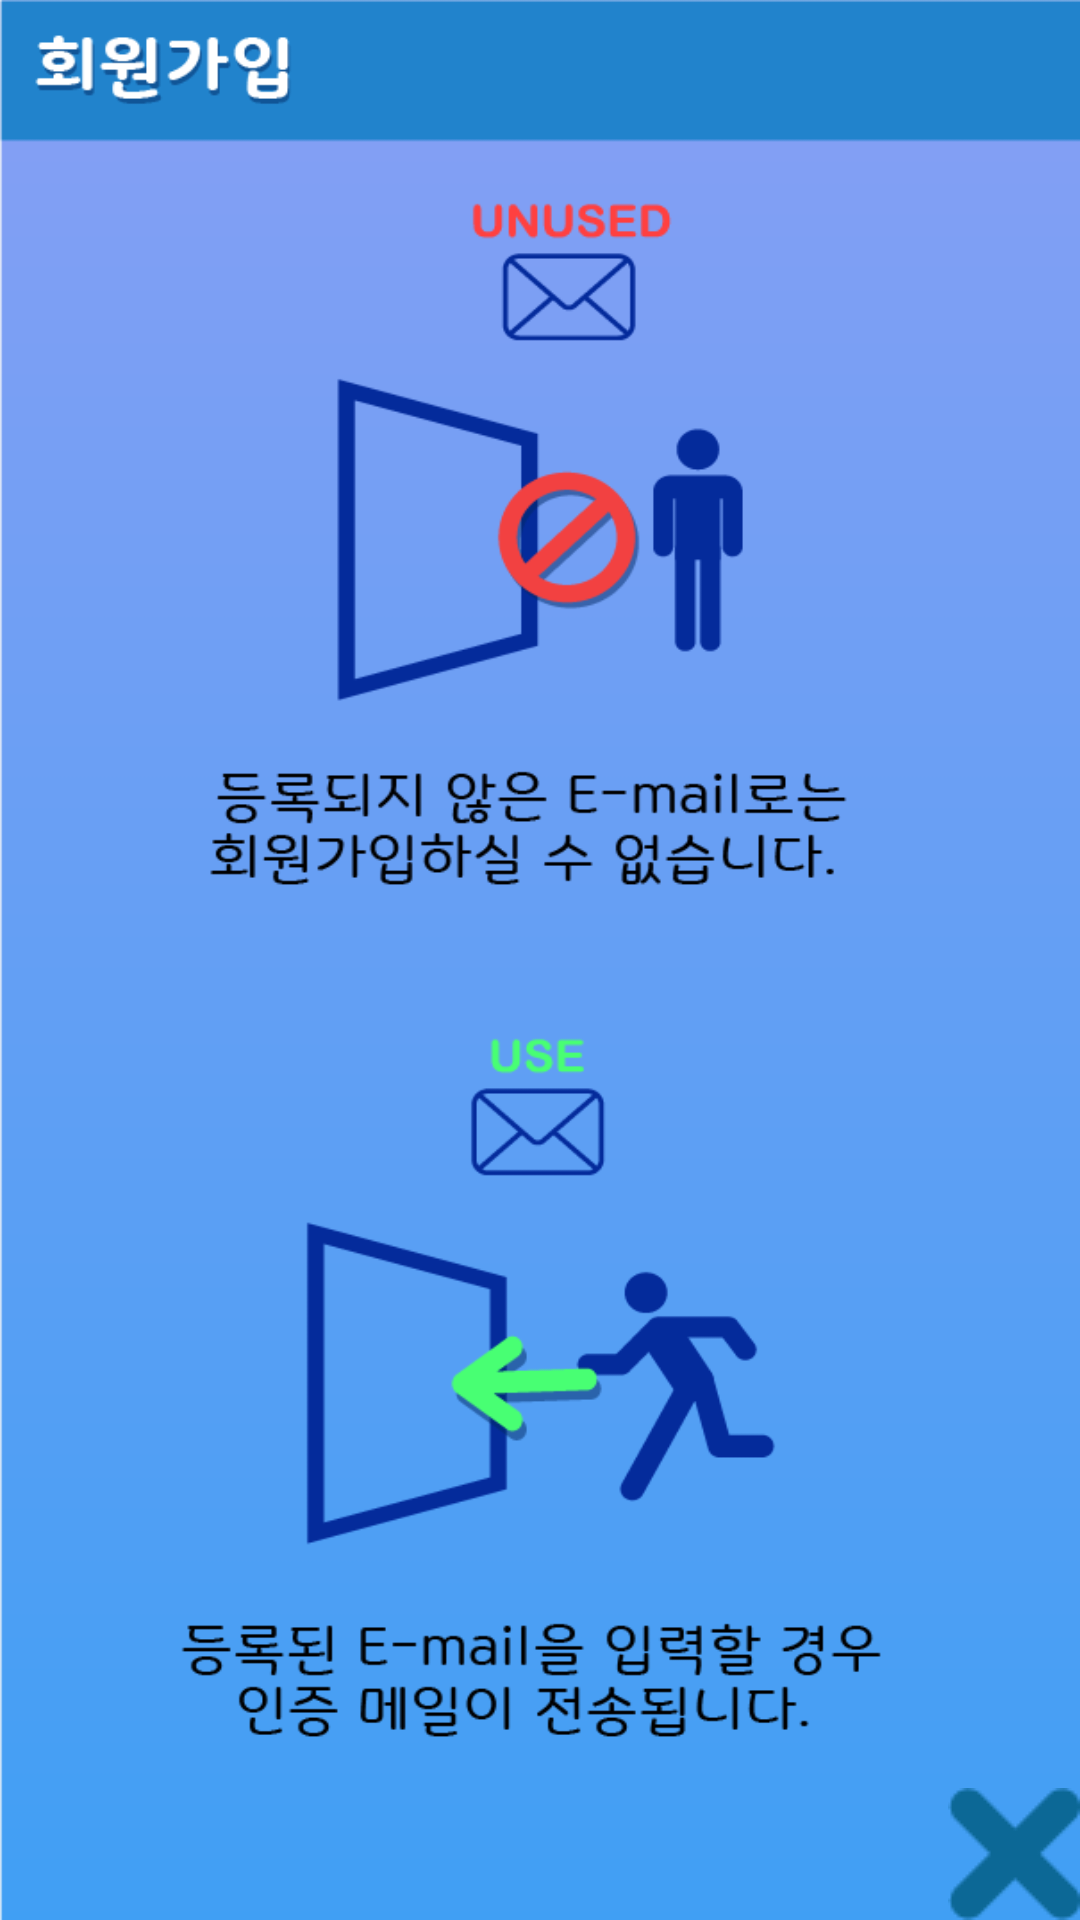

Icons on this 1080w x 1920h Android screen, each with the point to tap as (x=x, y=y):
xicon: (x=1015, y=1854)
